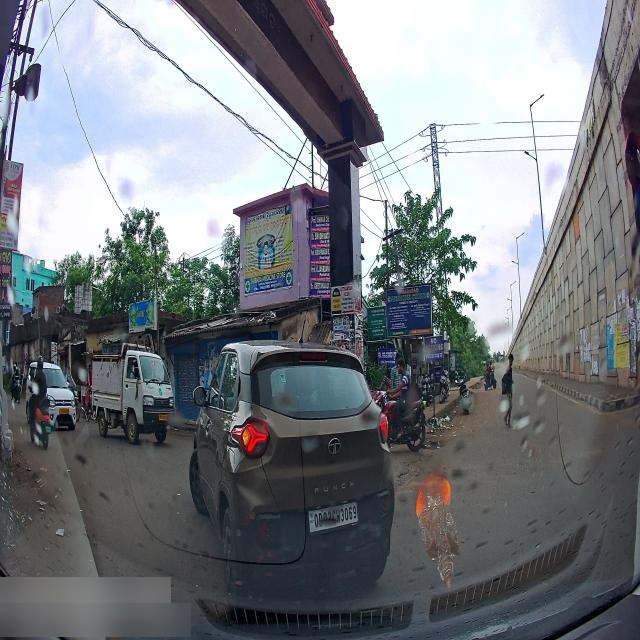pothole: (425, 436, 443, 452)
